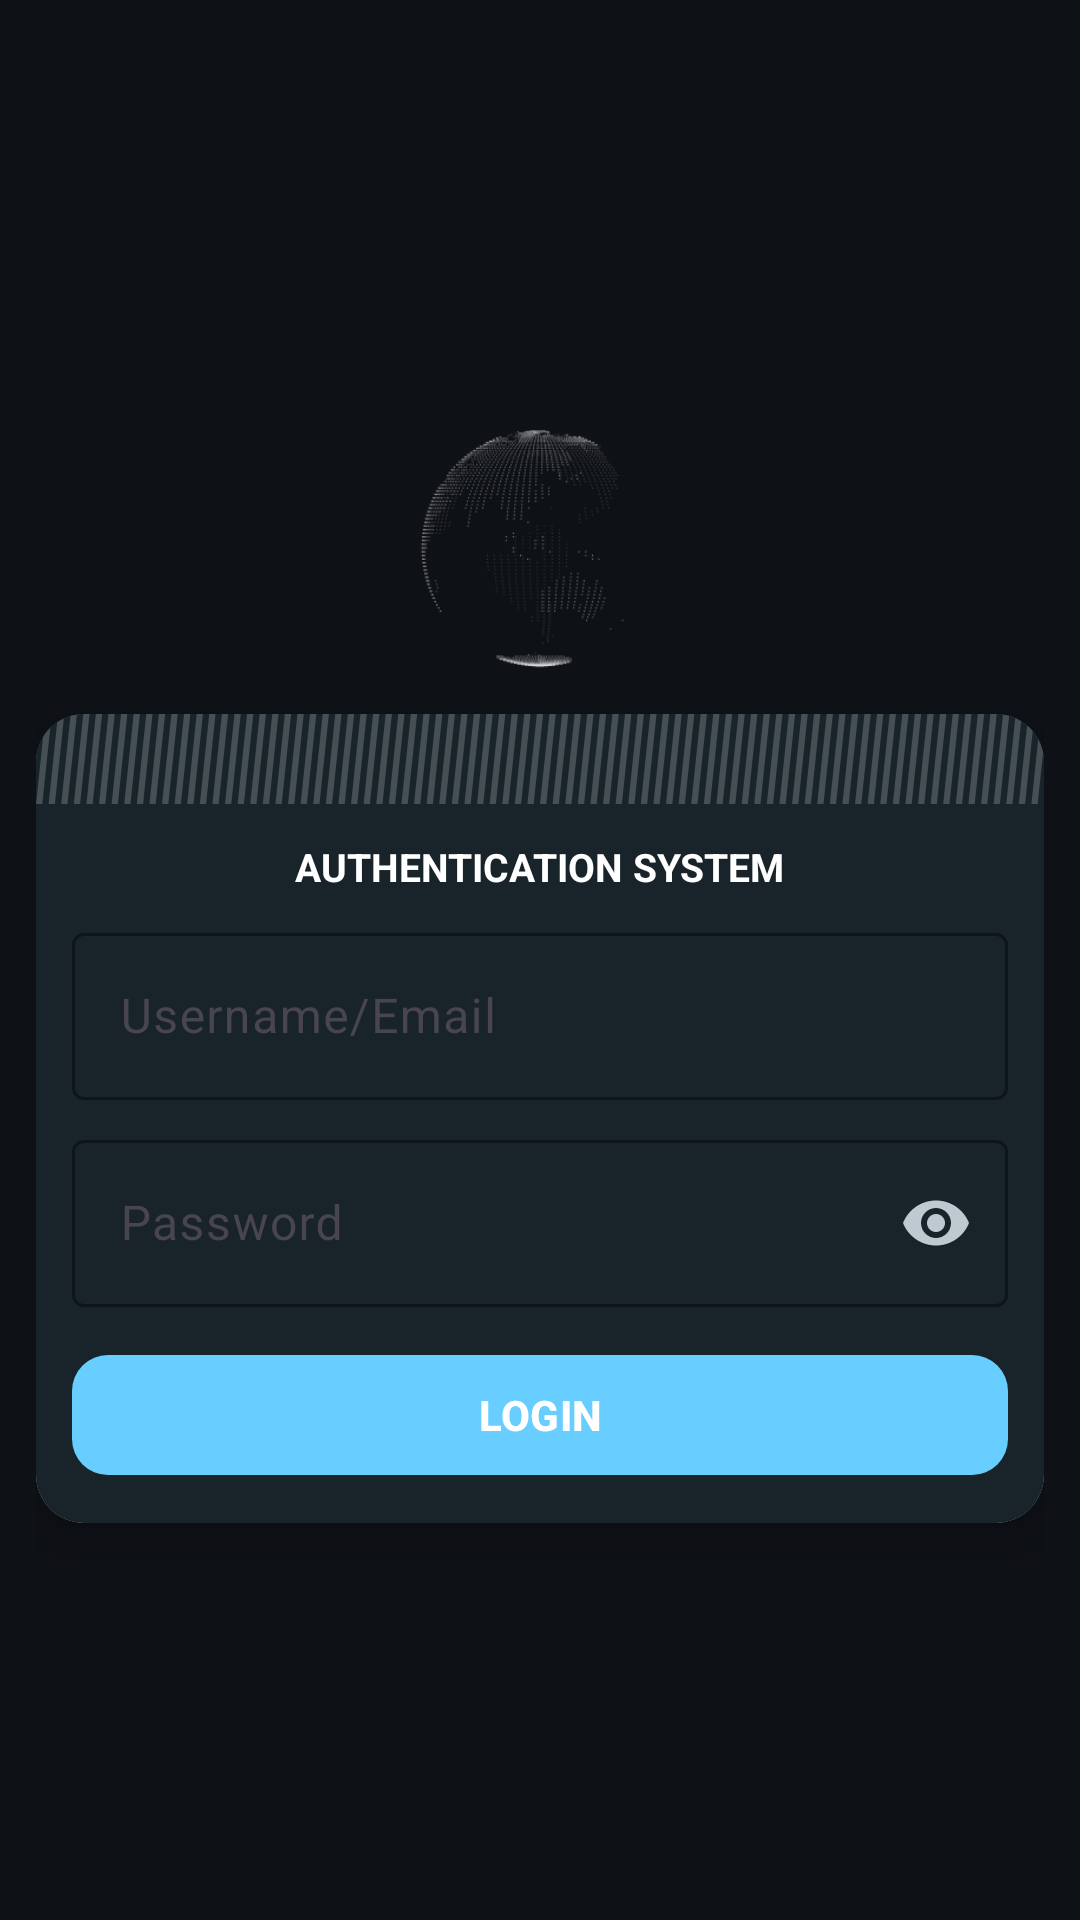

Icon bounding boxes for this 1080px x 1920px phone screenshot, format (x1, y1, x2, y2):
planet: (421, 430, 624, 667)
